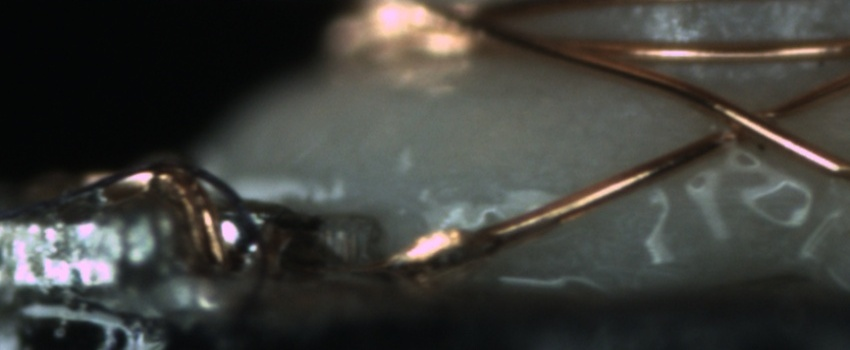CL: (706, 92, 807, 159)
TE: (92, 159, 242, 278)
